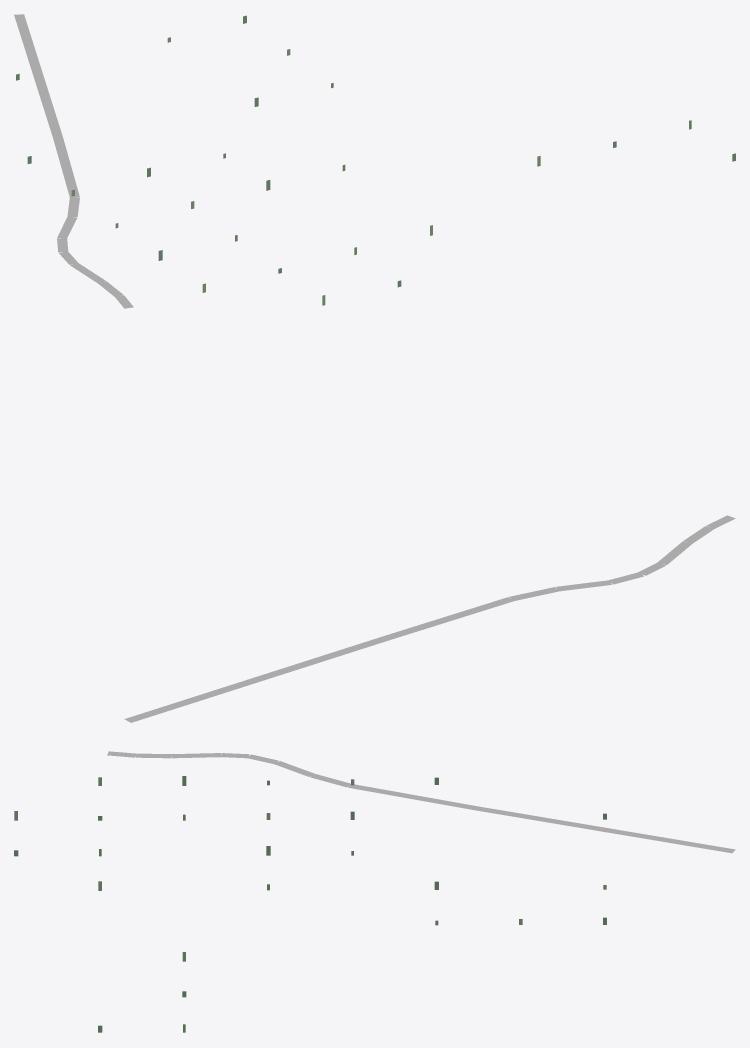
3 views of the same model, one above another, from view 1: azimuth 30°, elevation 25°; view 2: azimuth 150°, elevation 25°; view 3: azimuth 270°, elevation 25° (orthographic). The views are drawn at different scales.
Size of the model in its own units: 481 by 9.99 by 515.
